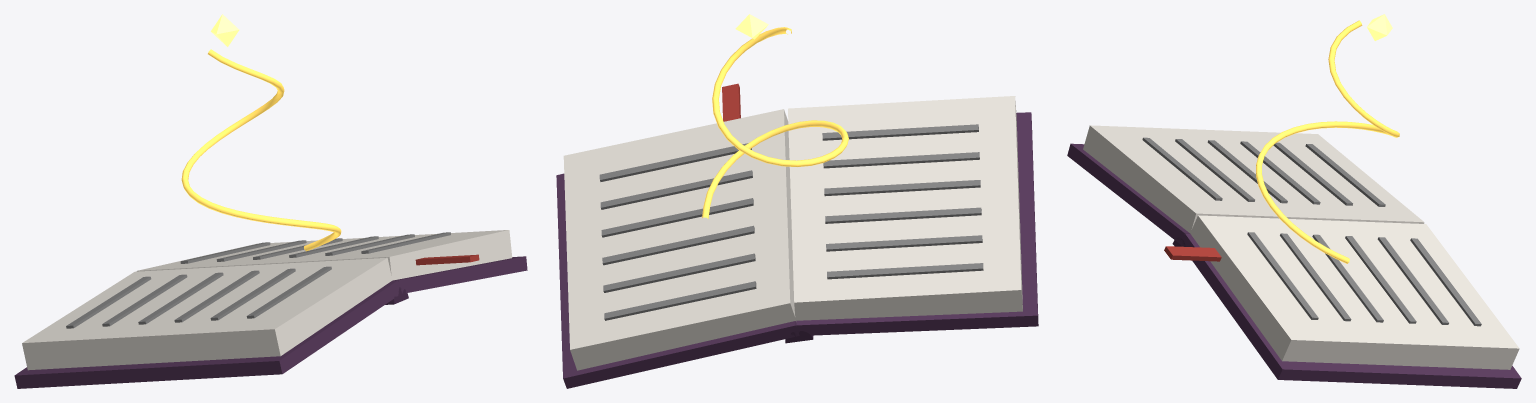
Rendered from book.glb.
3 renders of one model, left to right at view 1: azimuth 30°, elevation 25°; view 2: azimuth 150°, elevation 25°; view 3: azimuth 270°, elevation 25°, orthographic. The views are drawn at different scales.
Bounding box in the file's own units: 2.01 × 1.36 × 1.72.
